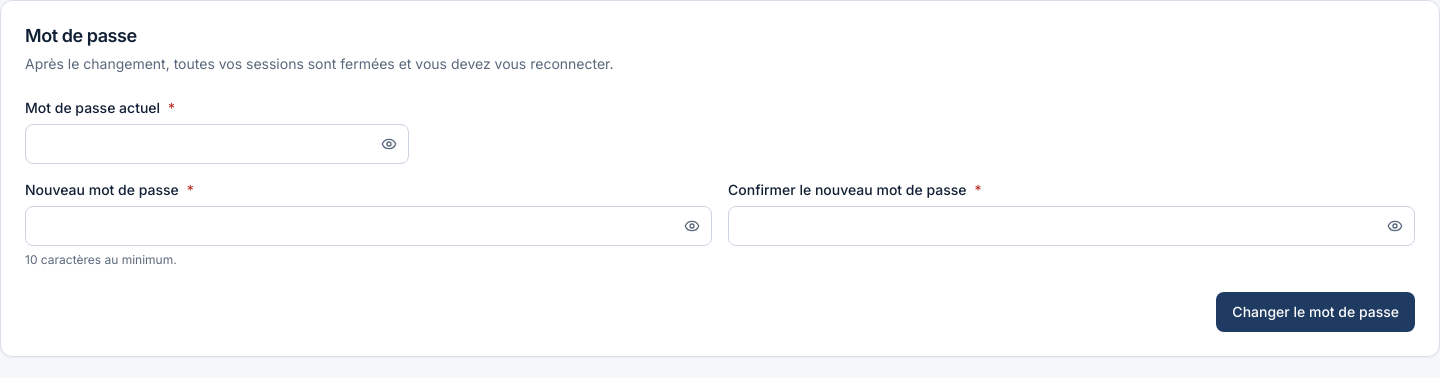
Test: PasswordForm › doit refuser une confirmation différente sans appeler le serveur
Type "ancienMotDePasse" into the password field labelled "Mot de passe actuel" at (217, 144), box [25,124,409,164]
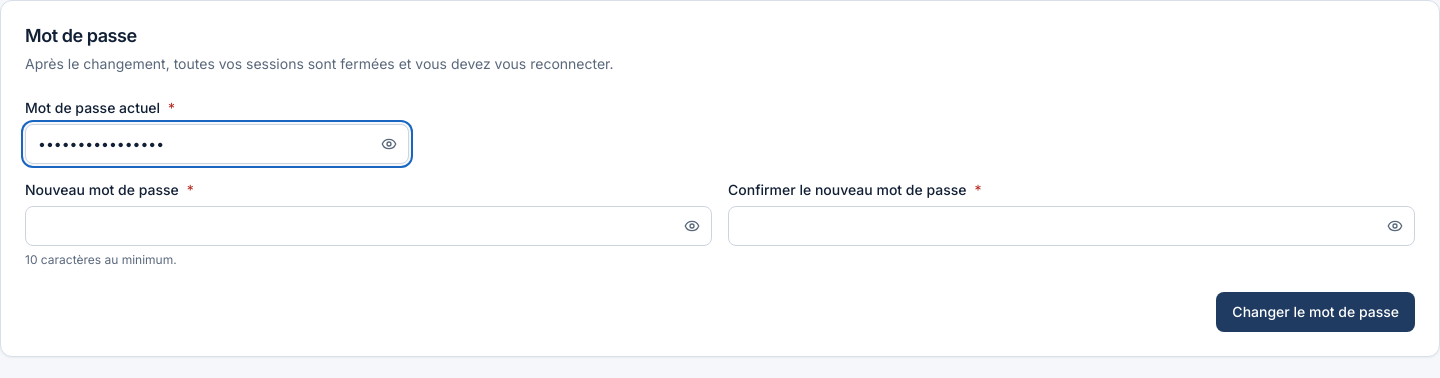
Type "nouveauMotDePasse" into the password field labelled "Nouveau mot de passe" at (368, 226), box [25,206,712,246]
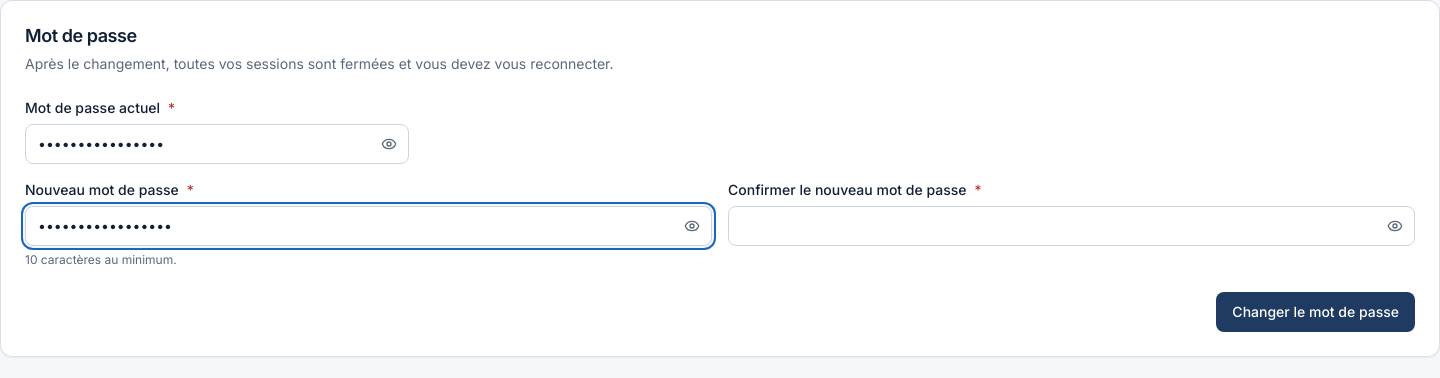
Type "autreMotDePasse" into the password field labelled "Confirmer le nouveau mot de passe" at (1072, 226), box [728,206,1415,246]
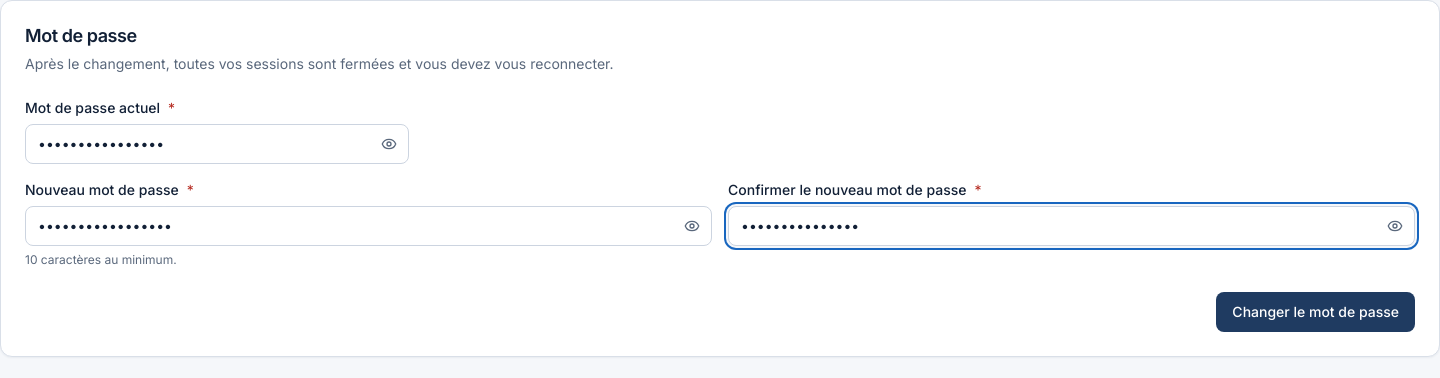
Click the button "Changer le mot de passe" at (1316, 312), box [1216,292,1415,332]
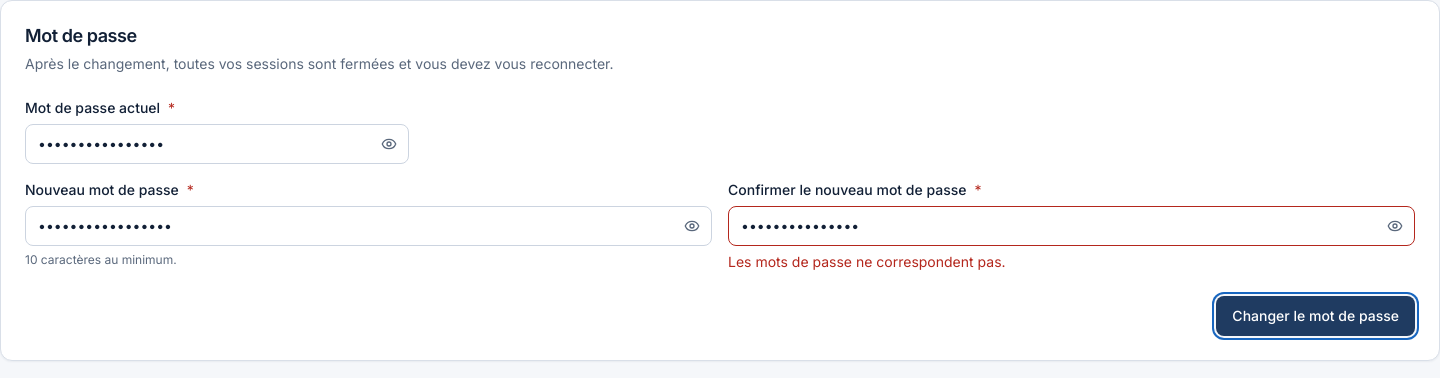
Result: the text "Les mots de passe ne correspondent pas." is shown at [728,252,1006,270]
